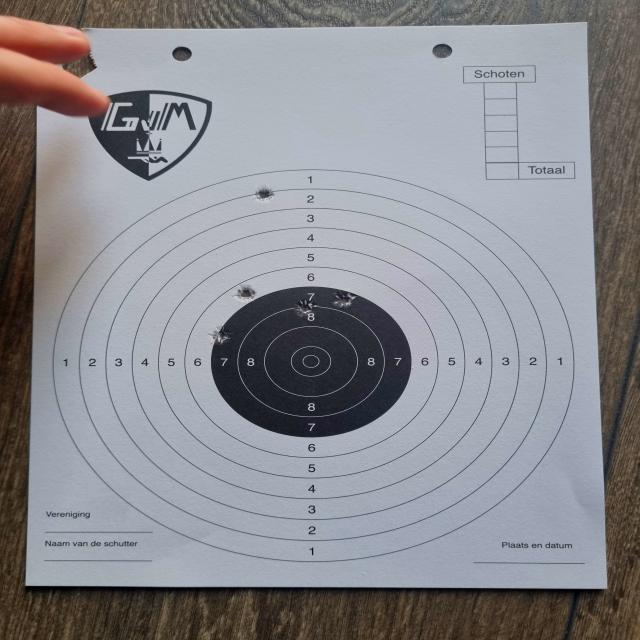2: (253, 187, 274, 200)
6: (232, 285, 256, 300)
7: (208, 326, 233, 344), (332, 291, 357, 308)
8: (294, 300, 317, 316)
Target: (51, 168, 579, 564)
black_contour: (208, 286, 414, 436)
